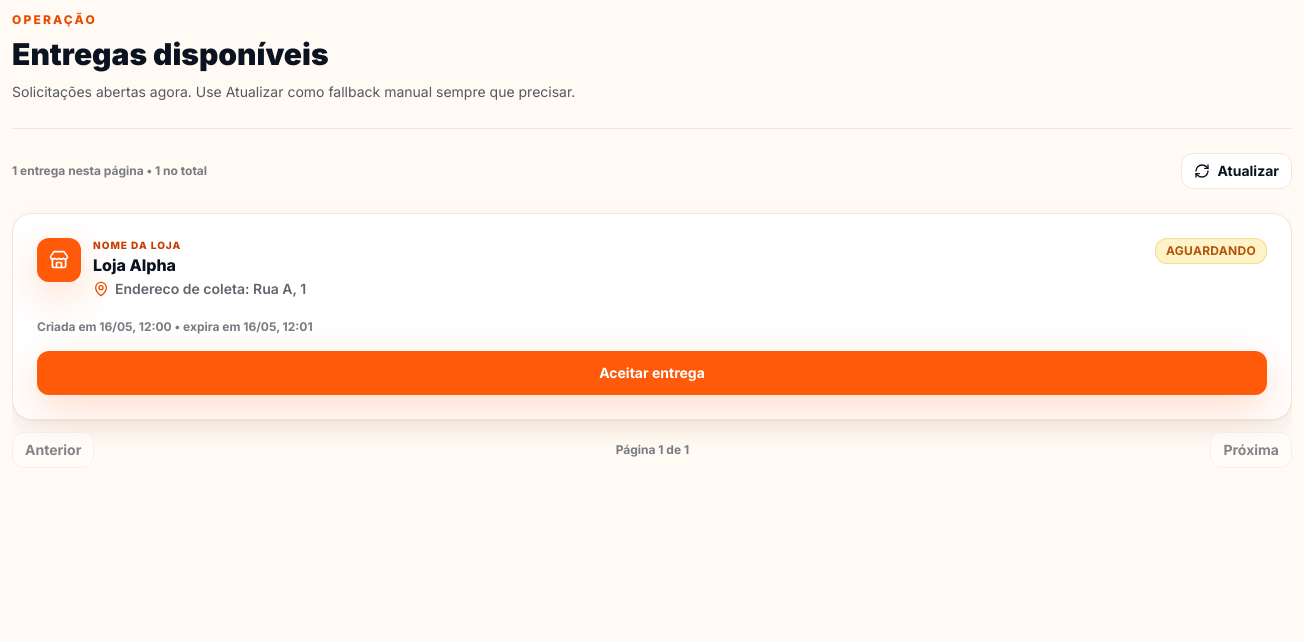
Test case: FilaDisponivel › removes the item and warns on ALREADY_ACCEPTED
What coordinates should you click on to do the following:
click the button "Aceitar entrega"
I would click on:
 (652, 373)
Its box is [37,351,1267,395].
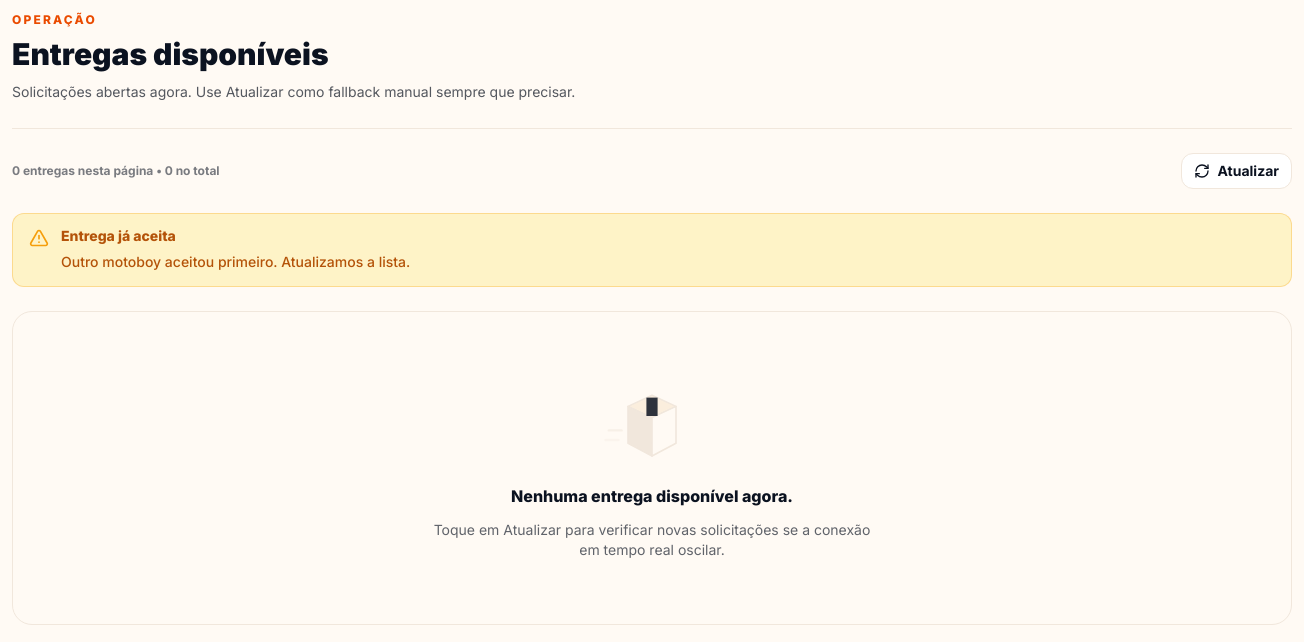
Expected: the text "Entrega já aceita" is shown, [61,227,176,244]
Expected: the text "Nenhuma entrega disponível agora." is shown, [511,484,793,508]
